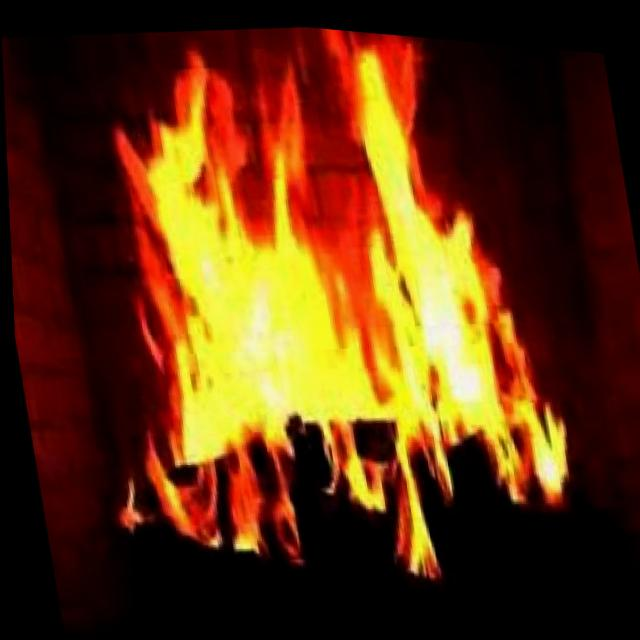helmet: (22, 2, 594, 638)
